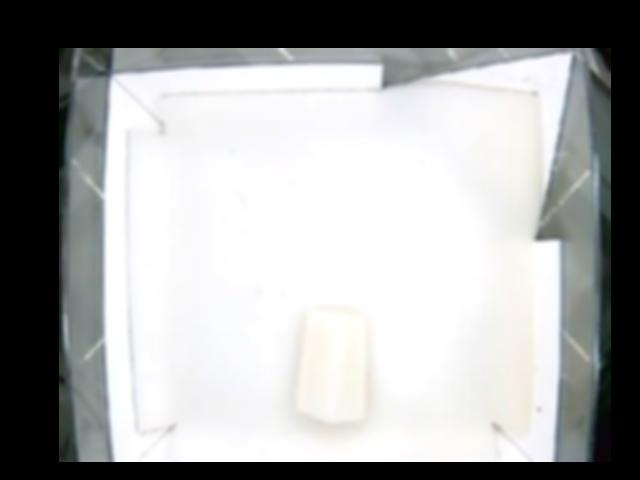Mooli: (296, 306, 364, 420)
